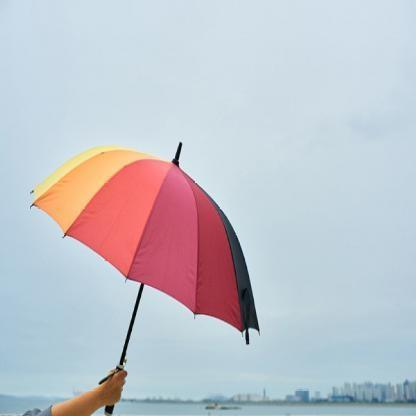Umbrella: (5, 100, 292, 394)
